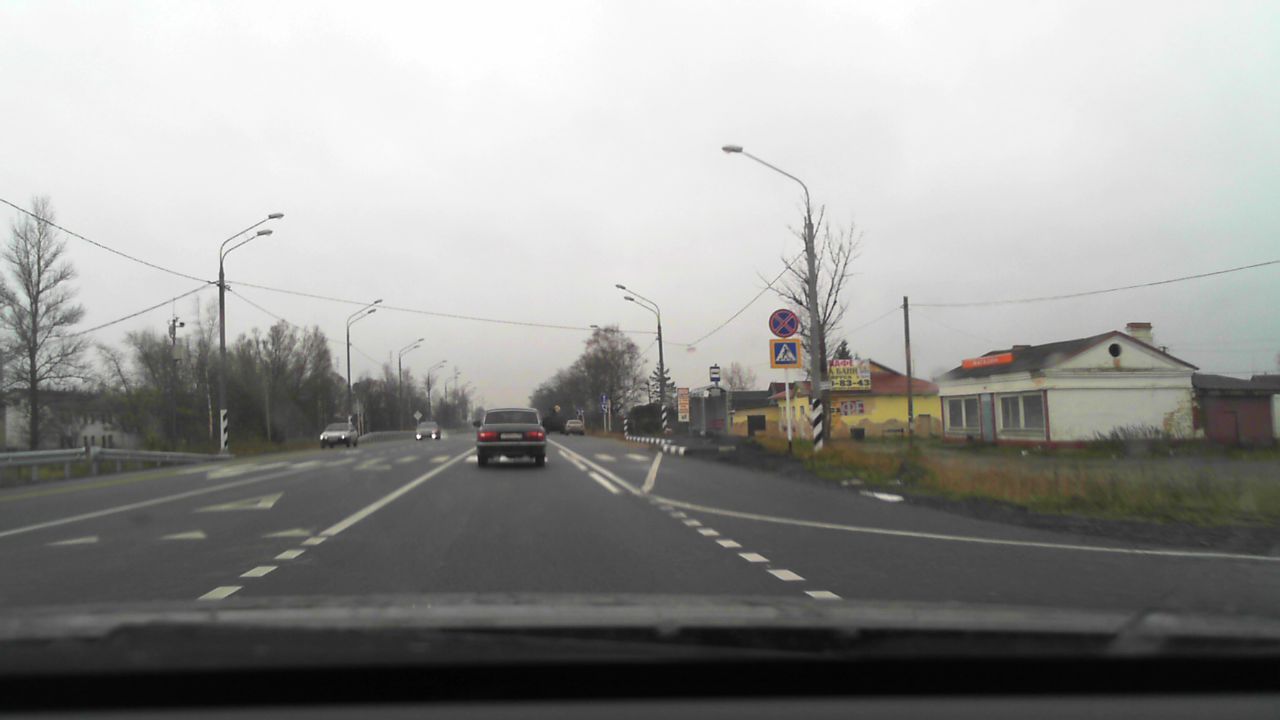No Parking: (768, 308, 798, 338)
